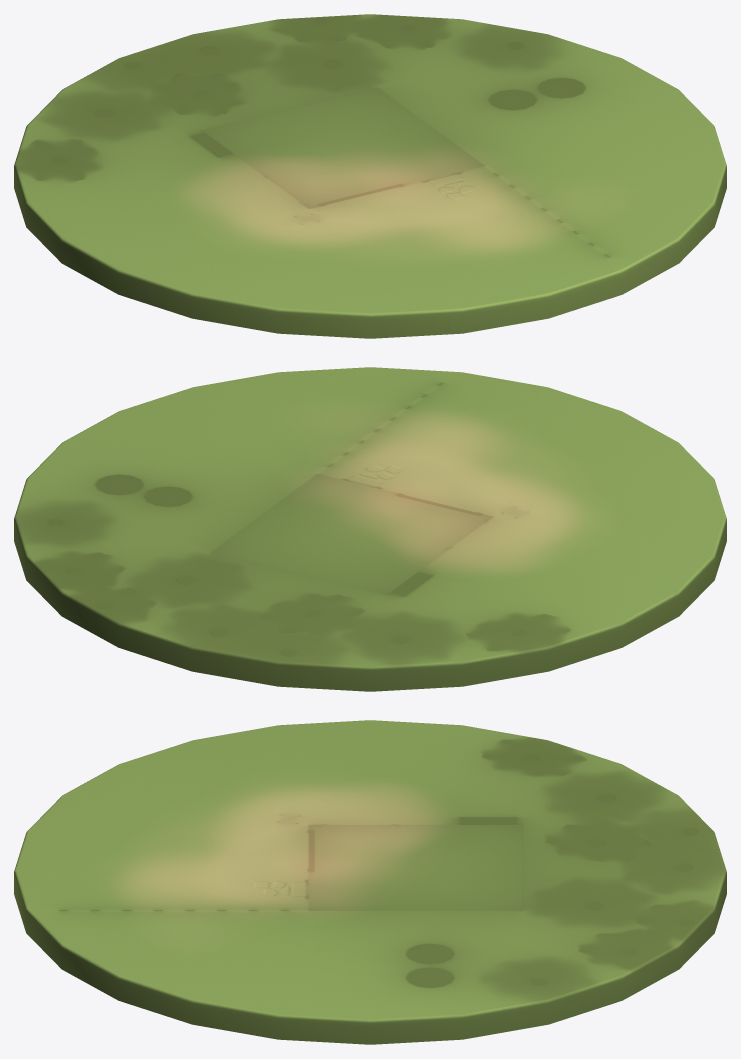
File: house_moc2_recieve_Shadow.glb
3 renders of one model, top to bottom at view 1: azimuth 30°, elevation 25°; view 2: azimuth 150°, elevation 25°; view 3: azimuth 270°, elevation 25°, orthographic.
Visible parts, largest first — view 1: base_low; view 2: base_low; view 3: base_low.
Part boxes in pixels (x1,y1,x2,y2): base_low: (14,14,726,338); base_low: (14,367,726,691); base_low: (14,720,726,1044).
Size of the model in its own units: 8.01 by 0.3005 by 8.01.
Materials: 1 (1 with a texture image).
